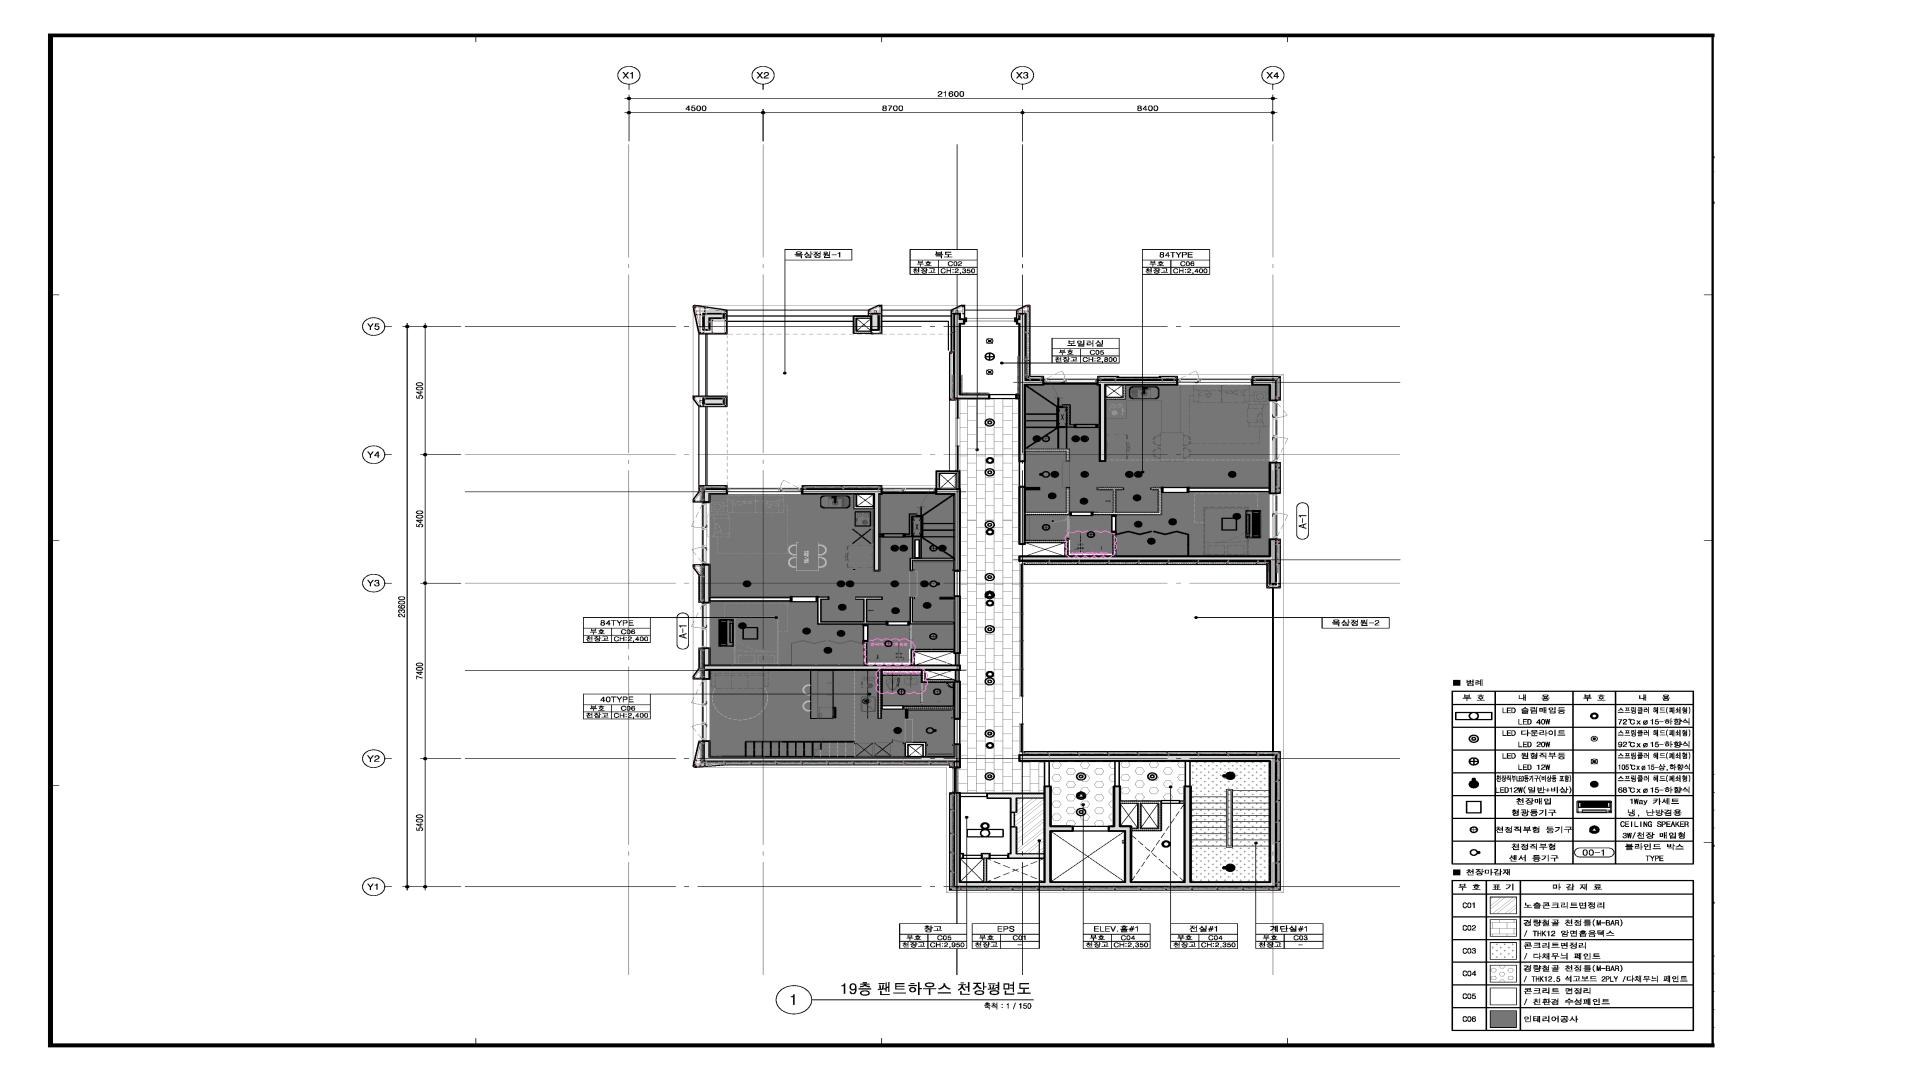background: (0, 0, 1920, 1080)
wall: (955, 756, 1275, 886), (1018, 538, 1278, 585), (704, 649, 960, 679), (1096, 378, 1179, 462), (703, 741, 961, 767), (802, 488, 882, 571), (1015, 313, 1044, 462), (953, 313, 989, 400), (935, 489, 960, 571), (1017, 305, 1044, 378), (1093, 487, 1162, 516), (818, 596, 886, 624), (1026, 487, 1069, 516), (1121, 800, 1162, 831), (910, 597, 953, 624), (1007, 827, 1043, 858), (986, 793, 1043, 812), (692, 305, 728, 334), (728, 310, 869, 316), (699, 407, 708, 485), (1026, 539, 1068, 555), (965, 310, 1015, 322), (910, 558, 953, 571), (1251, 380, 1275, 401), (1142, 802, 1160, 828), (699, 335, 707, 396), (1018, 487, 1026, 545), (882, 310, 951, 316), (692, 396, 728, 407), (1189, 487, 1269, 492), (920, 671, 955, 683), (869, 305, 882, 335), (703, 313, 725, 330), (955, 596, 961, 654), (884, 488, 935, 495), (905, 742, 927, 757), (704, 488, 727, 502), (711, 597, 789, 601), (853, 316, 870, 334), (1106, 386, 1126, 400), (703, 564, 709, 604), (955, 682, 961, 720), (877, 671, 882, 719), (1269, 462, 1276, 493), (1073, 825, 1108, 832), (903, 705, 953, 709), (951, 305, 965, 318), (790, 596, 818, 603), (1162, 487, 1189, 493), (703, 397, 725, 405), (870, 313, 880, 331), (990, 393, 1015, 400), (1043, 762, 1050, 786), (1184, 762, 1191, 786), (703, 398, 724, 405), (1114, 762, 1120, 786), (914, 539, 920, 558), (955, 572, 960, 595), (955, 720, 960, 742), (1110, 516, 1117, 533), (961, 793, 986, 796), (886, 621, 910, 625), (1069, 512, 1093, 516), (1112, 533, 1116, 555), (692, 492, 700, 502), (692, 564, 700, 575), (882, 705, 903, 709), (1162, 800, 1180, 804), (1010, 814, 1015, 827), (990, 855, 1007, 858), (964, 855, 981, 858), (981, 853, 990, 858), (1180, 800, 1184, 804), (961, 853, 964, 858)
window: (688, 679, 709, 741), (1270, 401, 1291, 462), (690, 504, 709, 564), (1179, 369, 1251, 385), (690, 604, 709, 649), (1044, 369, 1096, 385), (1273, 495, 1290, 538)
